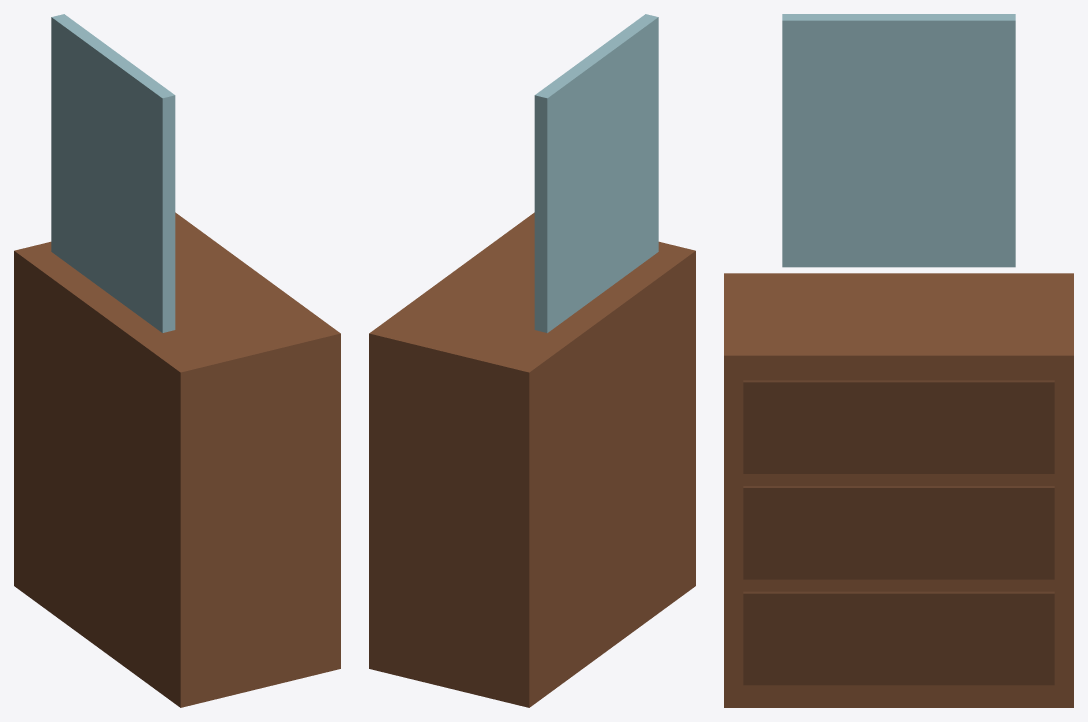
The model's file is dresser.glb.
The picture shows the model from 3 angles, left to right: view 1: azimuth 30°, elevation 25°; view 2: azimuth 150°, elevation 25°; view 3: azimuth 270°, elevation 25°; orthographic projection. The views are drawn at different scales.
Visible parts, largest first — view 1: Box1, Box5; view 2: Box1, Box5; view 3: Box1, Box5, Box2, Box3, Box4.
Part boxes in pixels (x1=…): Box1: x1=14, y1=212, x2=340, y2=707; Box5: x1=51, y1=14, x2=175, y2=332; Box1: x1=369, y1=212, x2=695, y2=707; Box5: x1=534, y1=14, x2=658, y2=332; Box1: x1=724, y1=273, x2=1073, y2=707; Box5: x1=782, y1=14, x2=1015, y2=267; Box2: x1=743, y1=591, x2=1054, y2=685; Box3: x1=743, y1=486, x2=1054, y2=579; Box4: x1=743, y1=380, x2=1054, y2=473.
Bounding box in the file's own units: 0.512 × 1.75 × 0.9.
